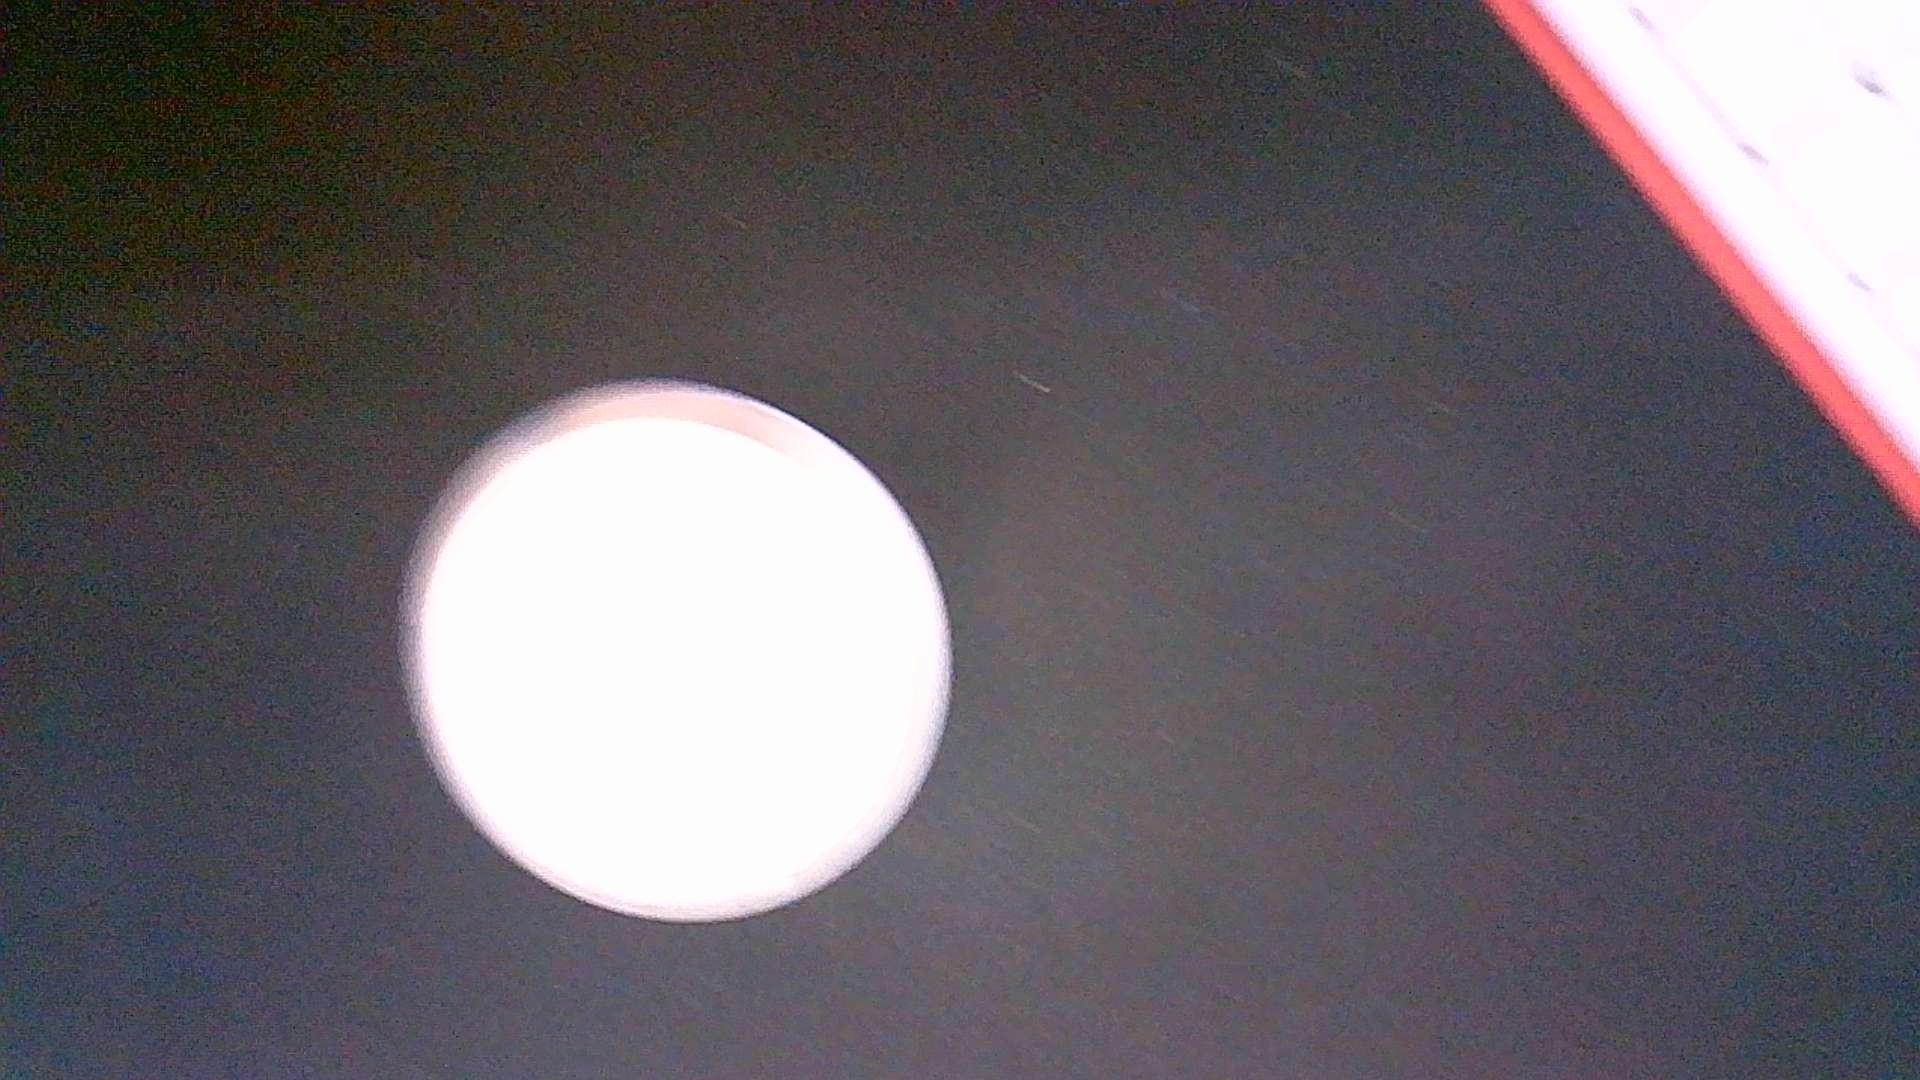letsbe: (396, 375, 955, 924)
